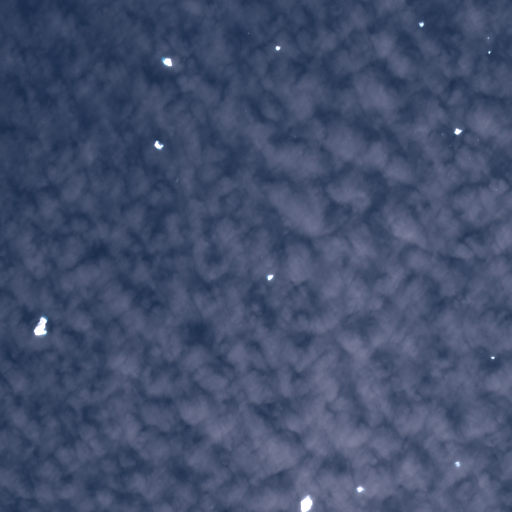Iceberg: (34, 315, 46, 335), (300, 495, 312, 511), (162, 57, 172, 66), (154, 140, 163, 149), (454, 128, 462, 134), (356, 486, 364, 492), (418, 21, 424, 27), (275, 45, 281, 50), (267, 275, 273, 280), (455, 461, 460, 466), (490, 356, 494, 359), (488, 50, 490, 54), (487, 37, 489, 39), (441, 133, 443, 135), (247, 32, 248, 34), (477, 139, 478, 140), (450, 145, 451, 146)
